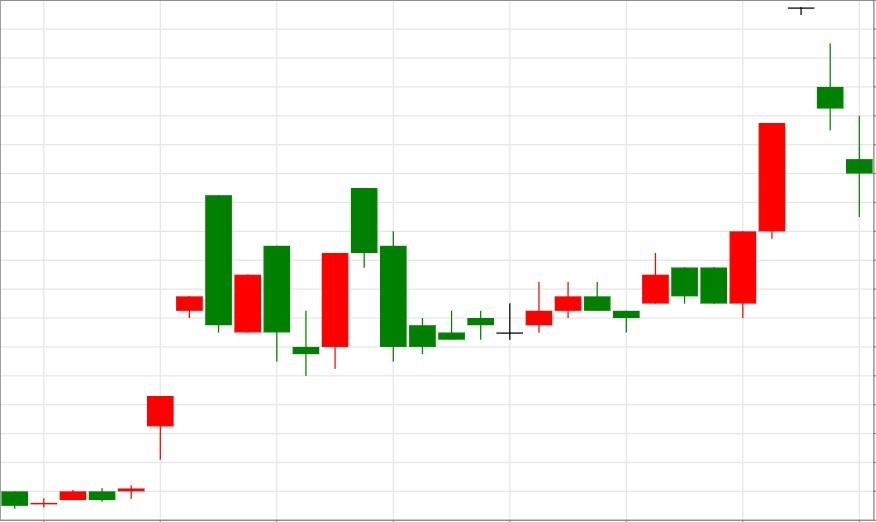bearish_engulfing_fall: (0, 195, 233, 509)
